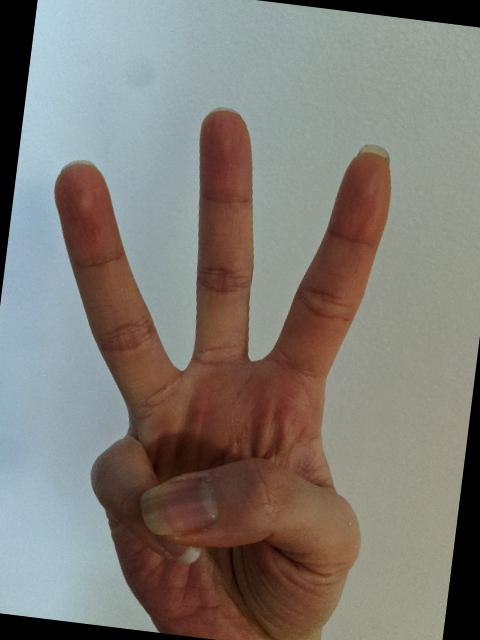W: (0, 81, 418, 640)
